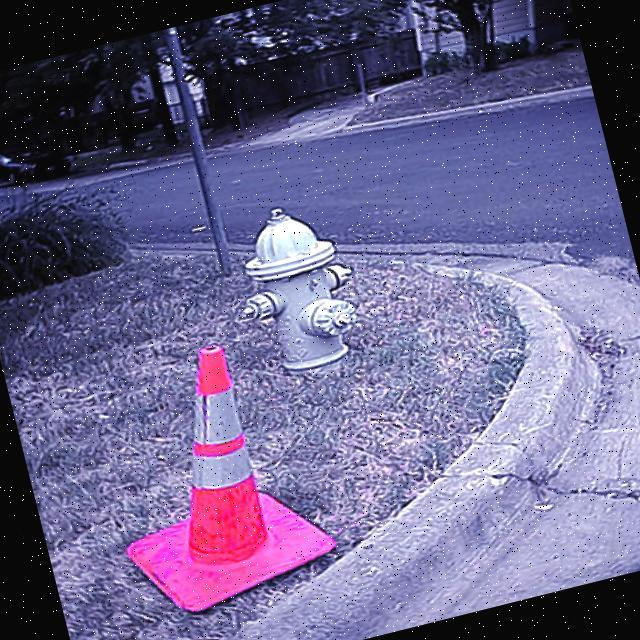fire_hydrant: (215, 192, 371, 382)
